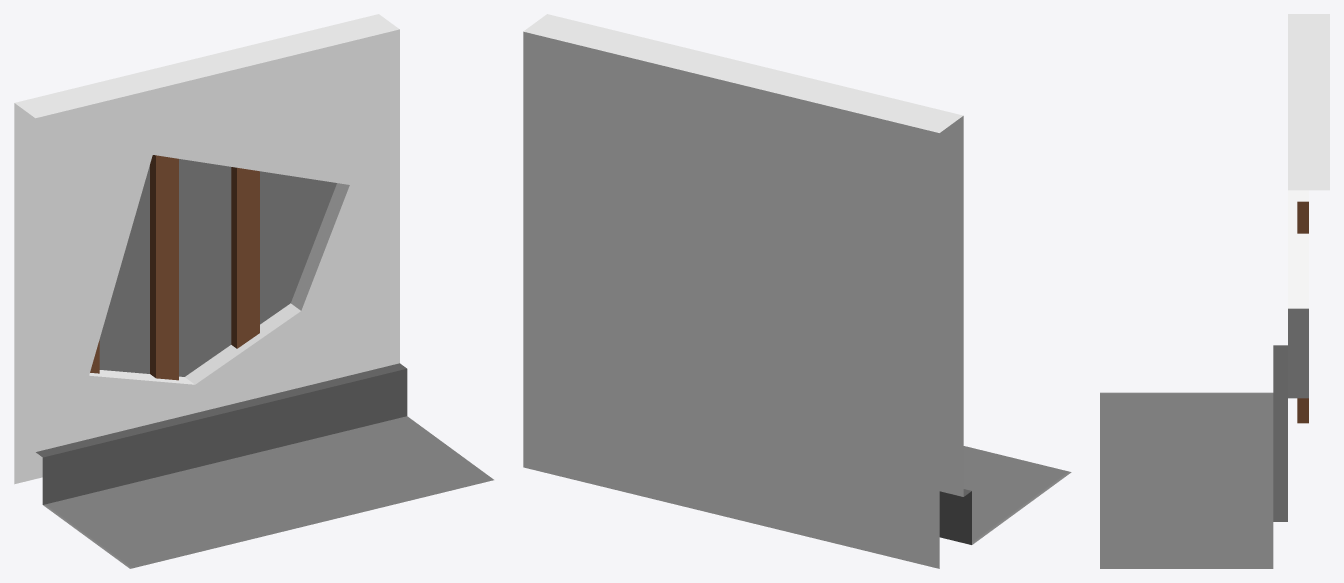
The model's file is E_Wall_Straight_Cracked_4.fbx.
3 views of the same model, side by side, from view 1: azimuth 30°, elevation 25°; view 2: azimuth 150°, elevation 25°; view 3: azimuth 270°, elevation 25° (orthographic). The views are drawn at different scales.
Parts seen in each view (by area): view 1: E_Wall_Straight_Cracked_4; view 2: E_Wall_Straight_Cracked_4; view 3: E_Wall_Straight_Cracked_4.
Part boxes in pixels (x1,y1,x2,y2): E_Wall_Straight_Cracked_4: [14, 14, 493, 568]; E_Wall_Straight_Cracked_4: [523, 14, 1071, 568]; E_Wall_Straight_Cracked_4: [1100, 14, 1329, 568].
Size of the model in its own units: 200 by 200 by 110.
